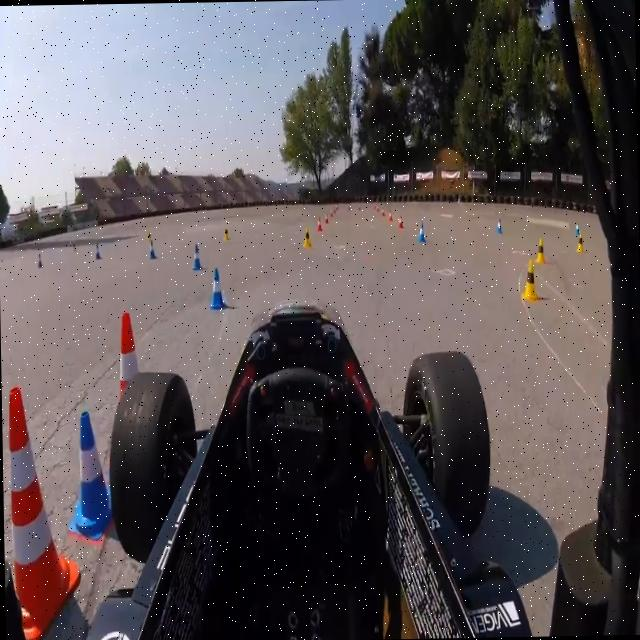blue_cone: (64, 406, 116, 543), (208, 266, 226, 310), (191, 242, 203, 270), (416, 220, 426, 243), (148, 240, 156, 260), (95, 242, 102, 260), (496, 217, 502, 234), (37, 254, 43, 268), (575, 220, 580, 236)
large_orange_cone: (2, 384, 83, 640), (106, 311, 154, 491)
orange_cone: (315, 215, 323, 232), (397, 214, 404, 229), (323, 212, 329, 224), (388, 208, 392, 222), (381, 206, 385, 217), (329, 208, 333, 218)
yellow_cone: (520, 258, 540, 302), (534, 237, 546, 264), (302, 227, 312, 248), (575, 231, 584, 254), (223, 226, 230, 242), (146, 229, 152, 243)
